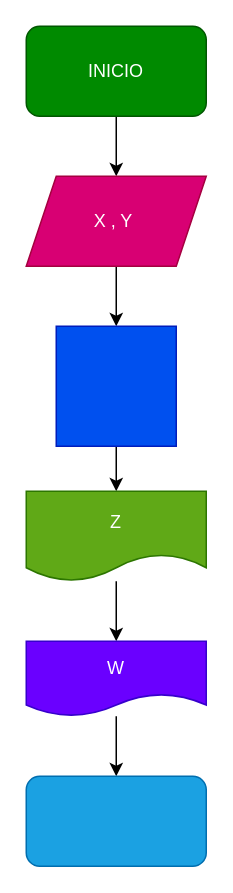
Some shapes in this 233 by 893 pixel diagram are drawn without their labels. The shapes that lost their labels are listed below. From the top down, each one's centre as x and y in pixels, then its label:
At pixel 115 385: "X * Y Z + X".
At pixel 115 820: "FIN".
